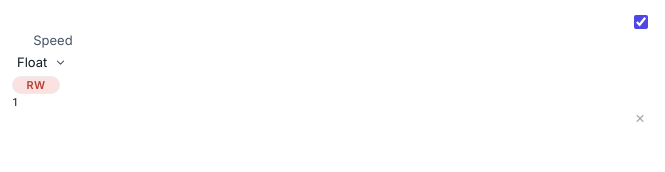
Test: live-value cell writes › offers a write on a writable variable
Click the element with class "cfg-vtable-cell--writable".
click(15, 102)  # box [12, 94, 19, 109]
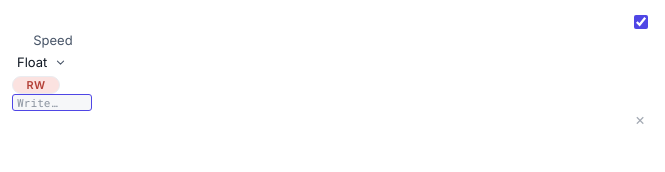
Expected: the field with class "cfg-var-write-input" is shown, [12, 94, 92, 111]
